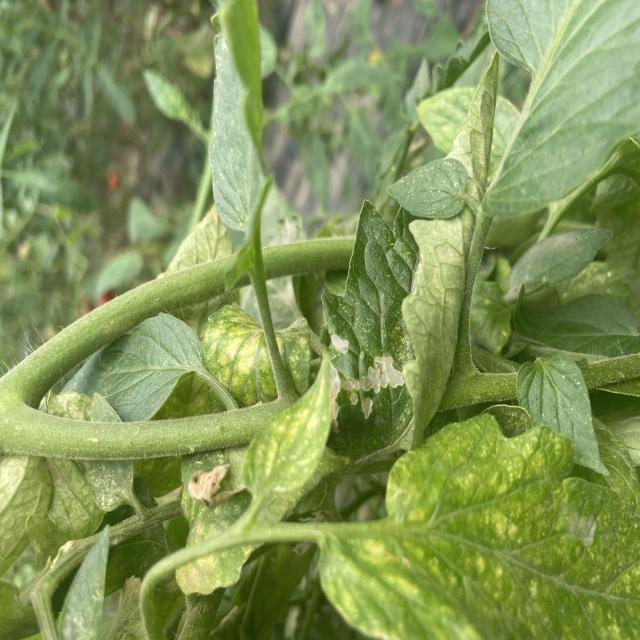Tuta absoluta: (338, 351, 407, 410), (329, 335, 349, 353), (360, 395, 375, 418)
